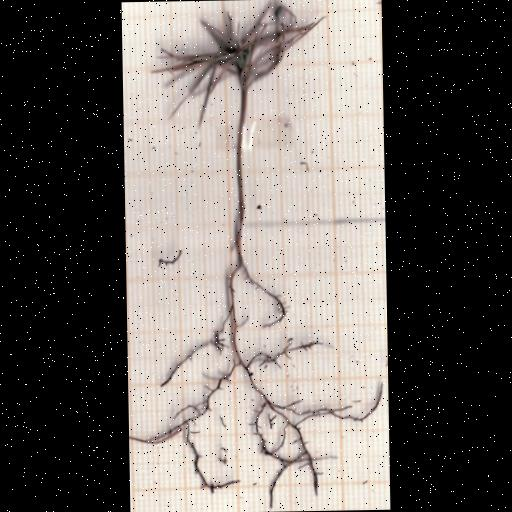flowerCedr: (160, 4, 323, 125)
rootCedr: (132, 263, 353, 504)
stemCedr: (233, 87, 250, 267)
